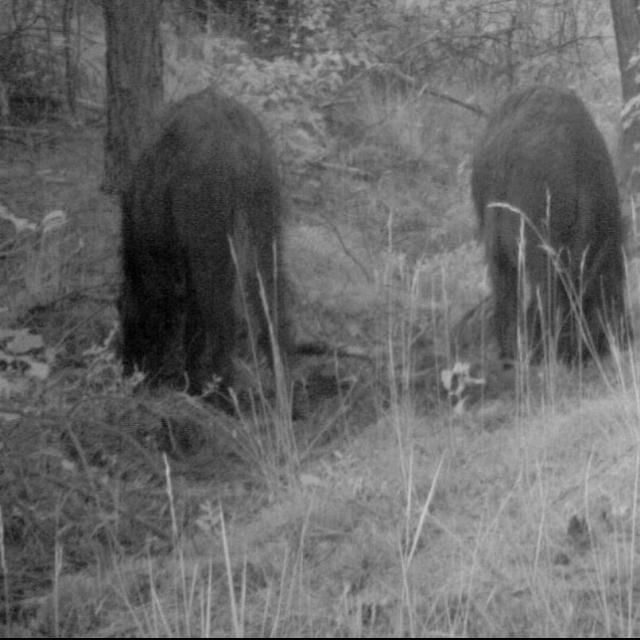pig: (450, 46, 640, 440), (114, 62, 310, 385)
